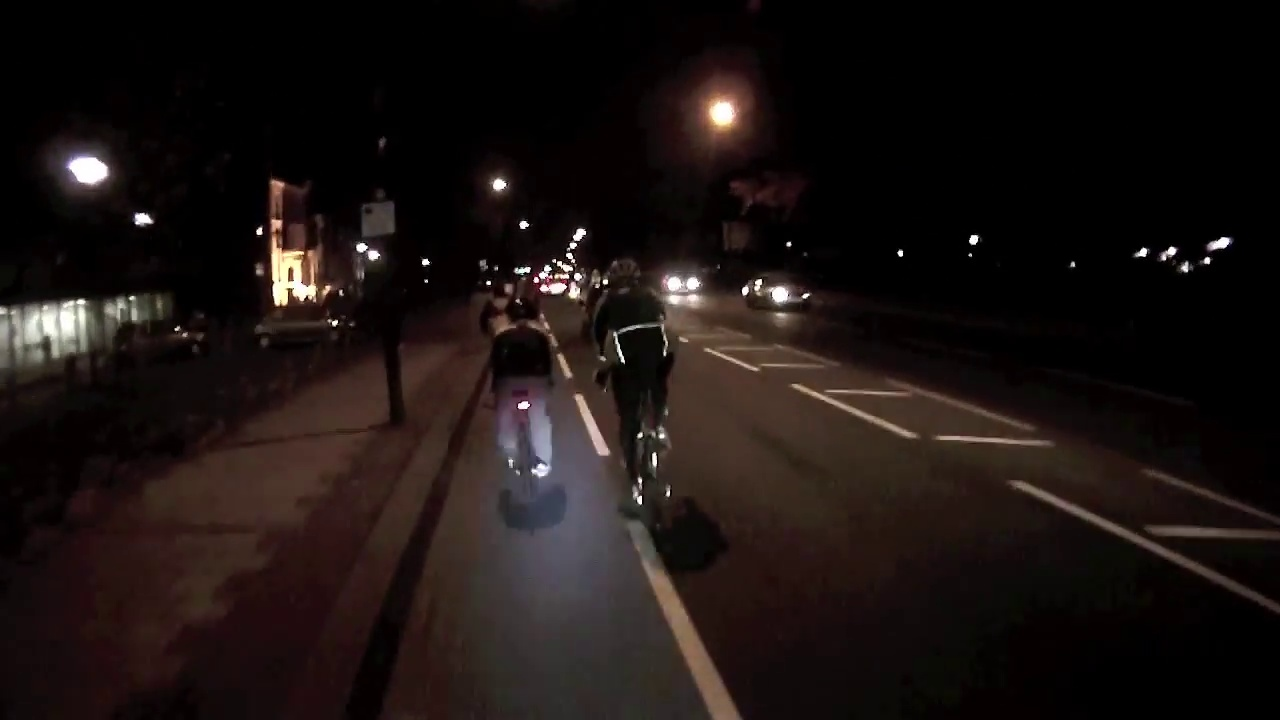cyclist_back: (589, 257, 689, 536), (484, 289, 561, 508)
